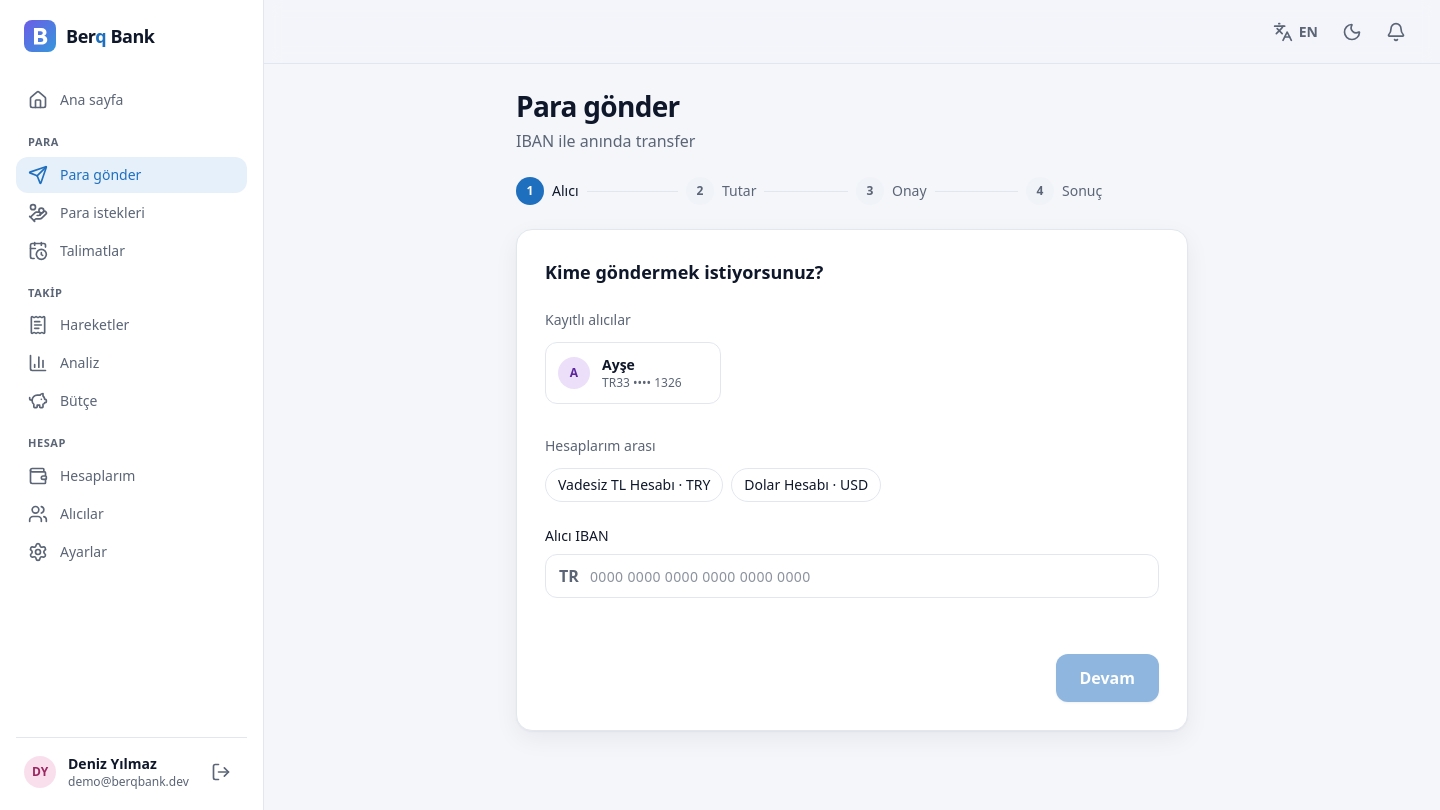
Test: transfer wizard › reports unknown IBANs inline and keeps Continue disabled
Type "000000000000000000000001" into the field labelled "Alıcı IBAN".
click(852, 576); type("000000000000000000000001")  # box [545, 554, 1159, 598]
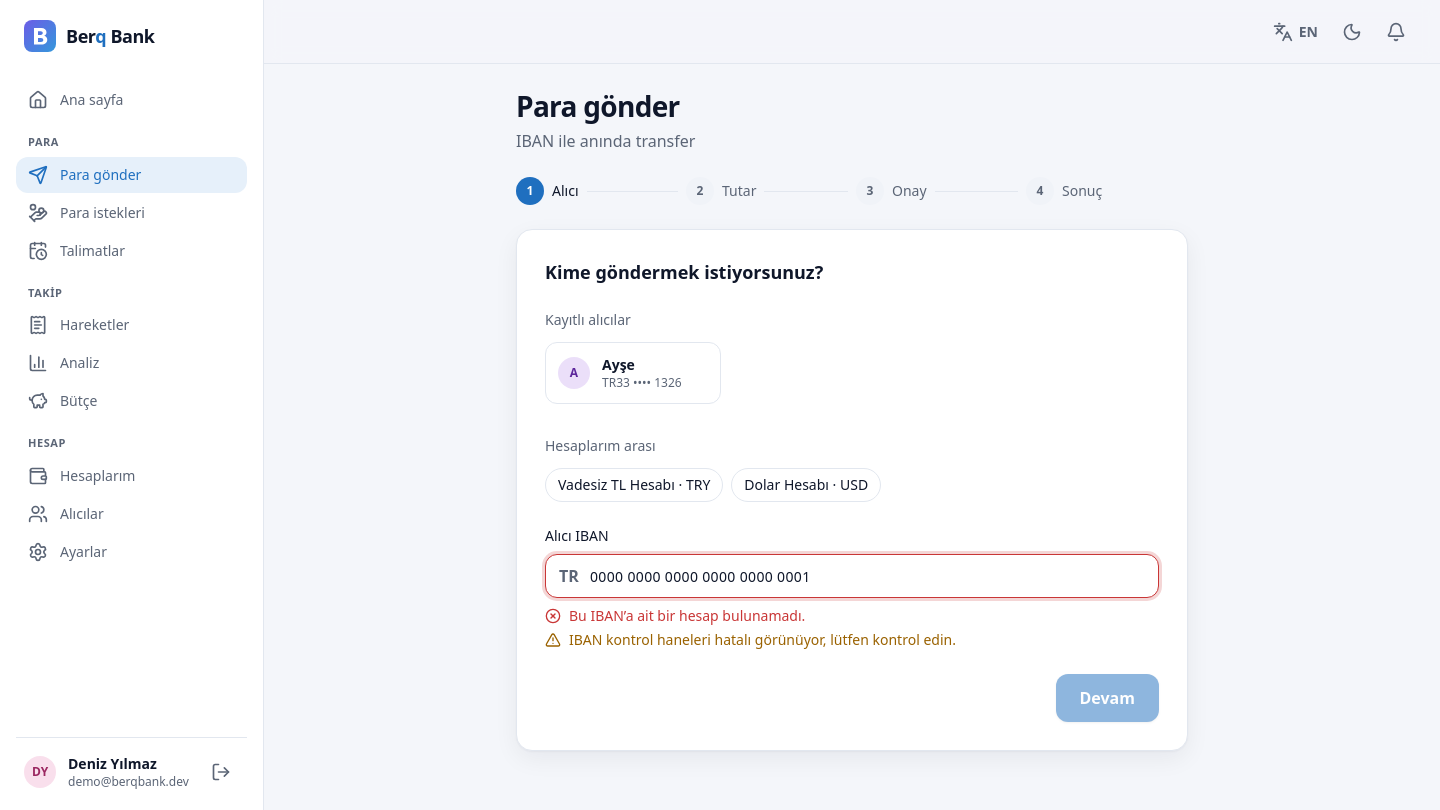
Expected: the button "Devam" is disabled, [1056, 674, 1159, 722]
Result: the text "Bu IBAN’a ait bir hesap bulunamadı." is shown at [545, 606, 805, 625]
